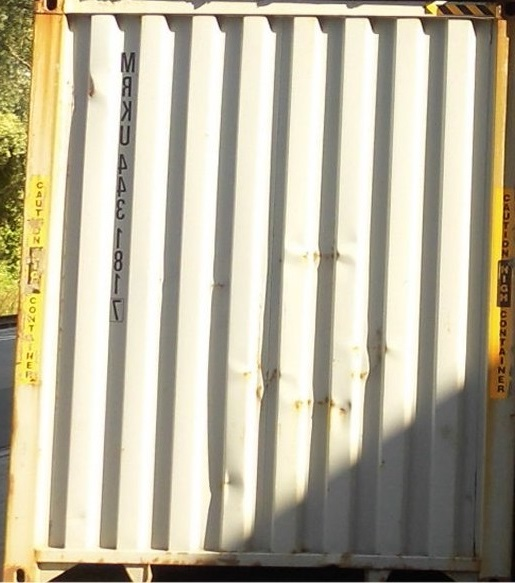container_no_door: (13, 1, 514, 582)
